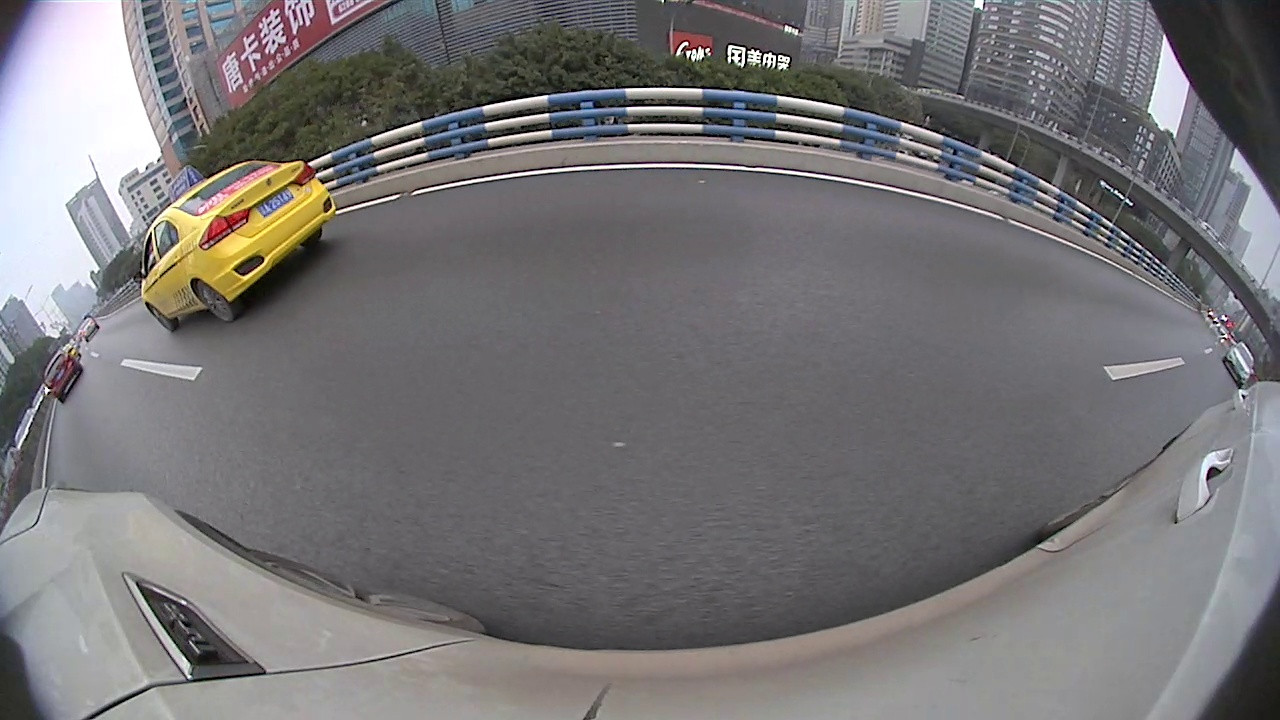bus: (757, 122, 838, 196)
car: (1, 231, 265, 486), (668, 133, 813, 218), (1103, 249, 1229, 343), (471, 154, 551, 211), (606, 159, 638, 187), (545, 162, 577, 187), (573, 162, 597, 182)
front: (133, 299, 235, 419), (1105, 270, 1120, 292), (670, 177, 678, 202)
person: (1037, 205, 1050, 256), (1097, 229, 1109, 281), (1011, 199, 1022, 244)
rear: (1178, 312, 1199, 340), (702, 178, 713, 212), (529, 179, 538, 203)
